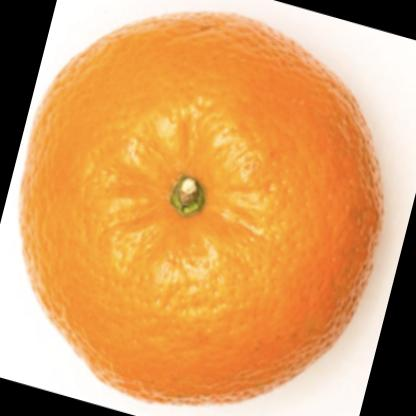fresh: (25, 12, 385, 401)
